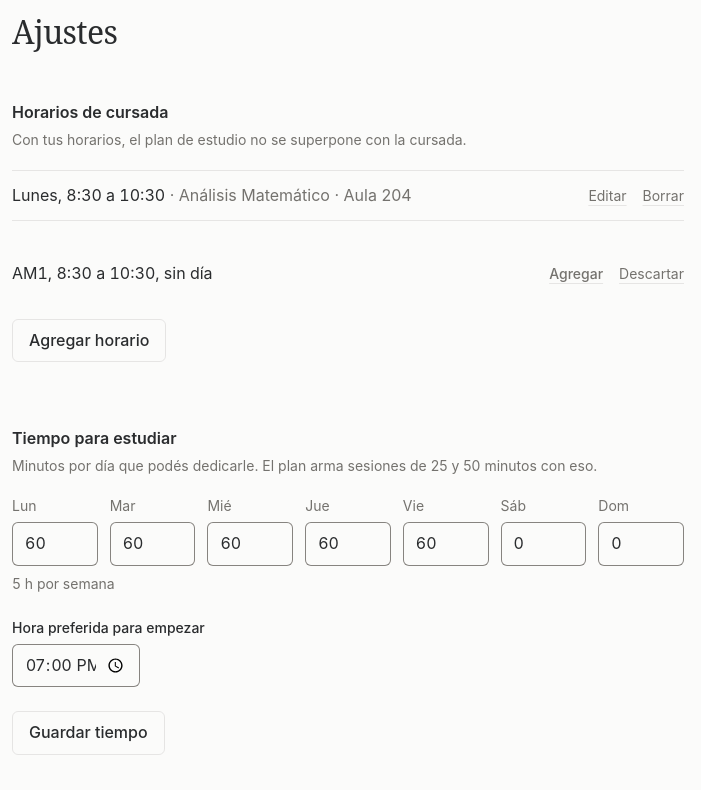
Test: Ajustes › Sugerencia de horario se puede agregar y descartar
Click the button "Agregar".
click(576, 274)  # box [549,264,603,284]
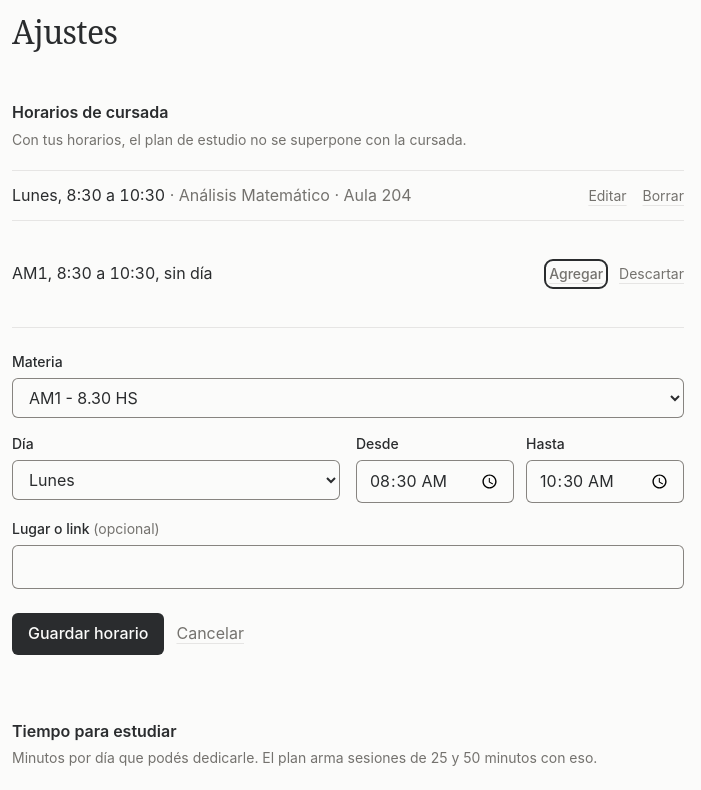
expect the dropdown labelled "Materia" shows "AM1 - 8.30 HS": met, box [12,378,684,418]
expect the time field labelled "Desde" holds "08:30": met, box [356,460,514,503]
Select "Miércoles" in the dropdown labelled "Día" at (176, 480), box [12,460,340,500]
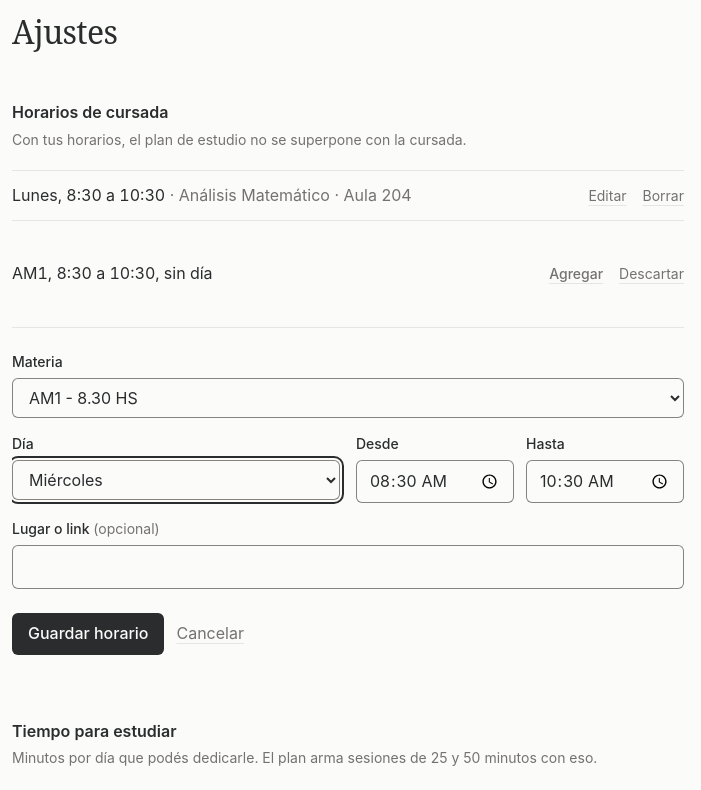
Click the button "Guardar horario".
click(88, 634)  # box [12,613,164,655]
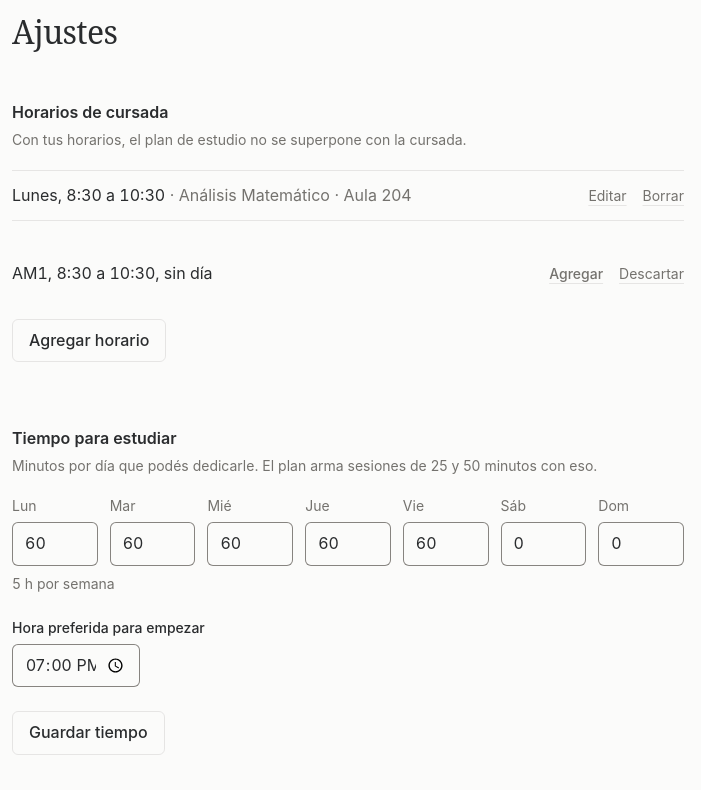
Click the button "Descartar".
click(652, 274)  # box [619,264,684,284]
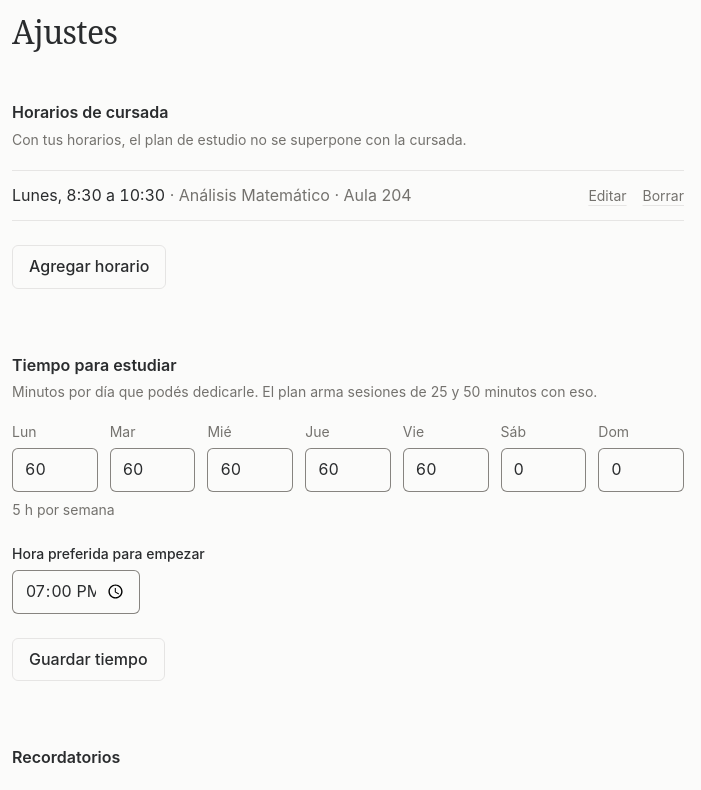
expect the text "AM1, 8:30 a 10:30, sin día" is gone: met
